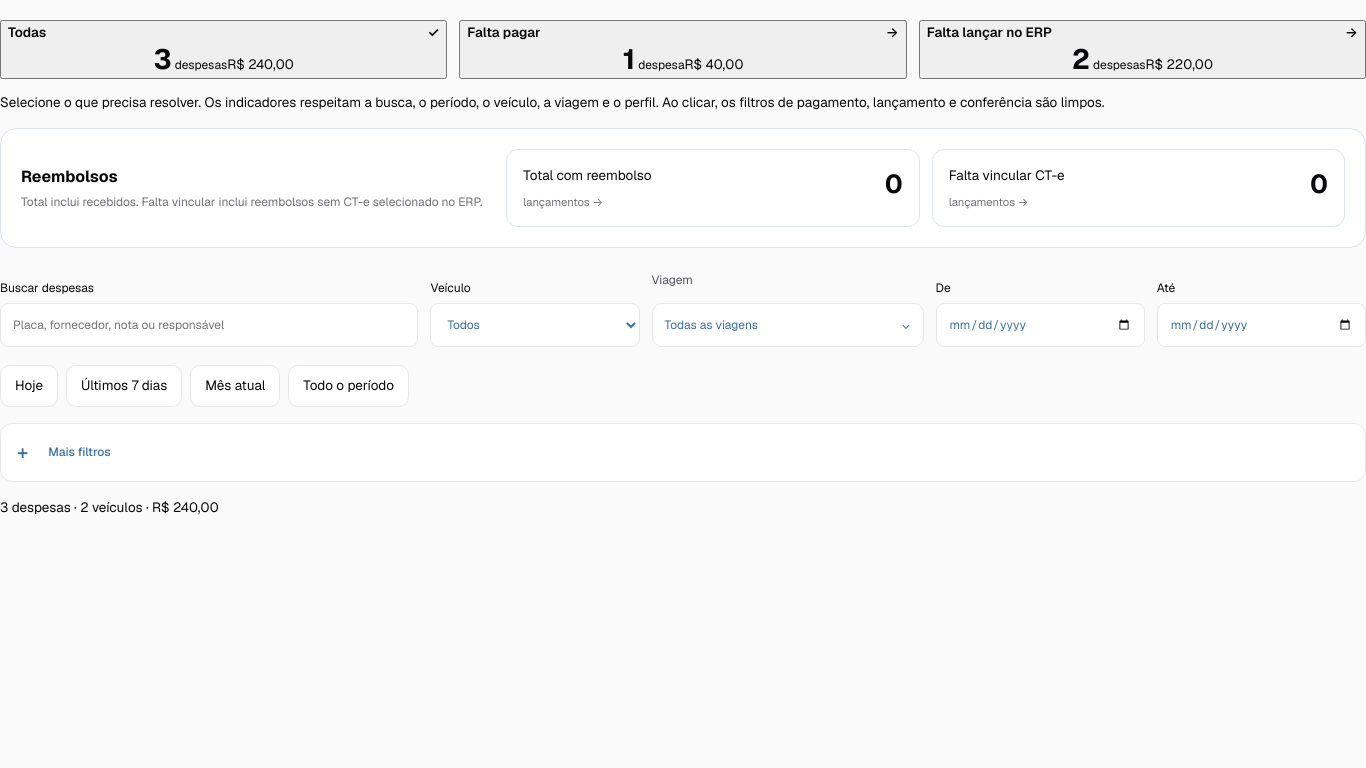
Scenario: limpa opcoes adicionais preservando busca e periodo e explica pagamento
Type "ABC" into the search field labelled "Buscar despesas". click: (209, 326)
box: left=0, top=304, right=418, bottom=348
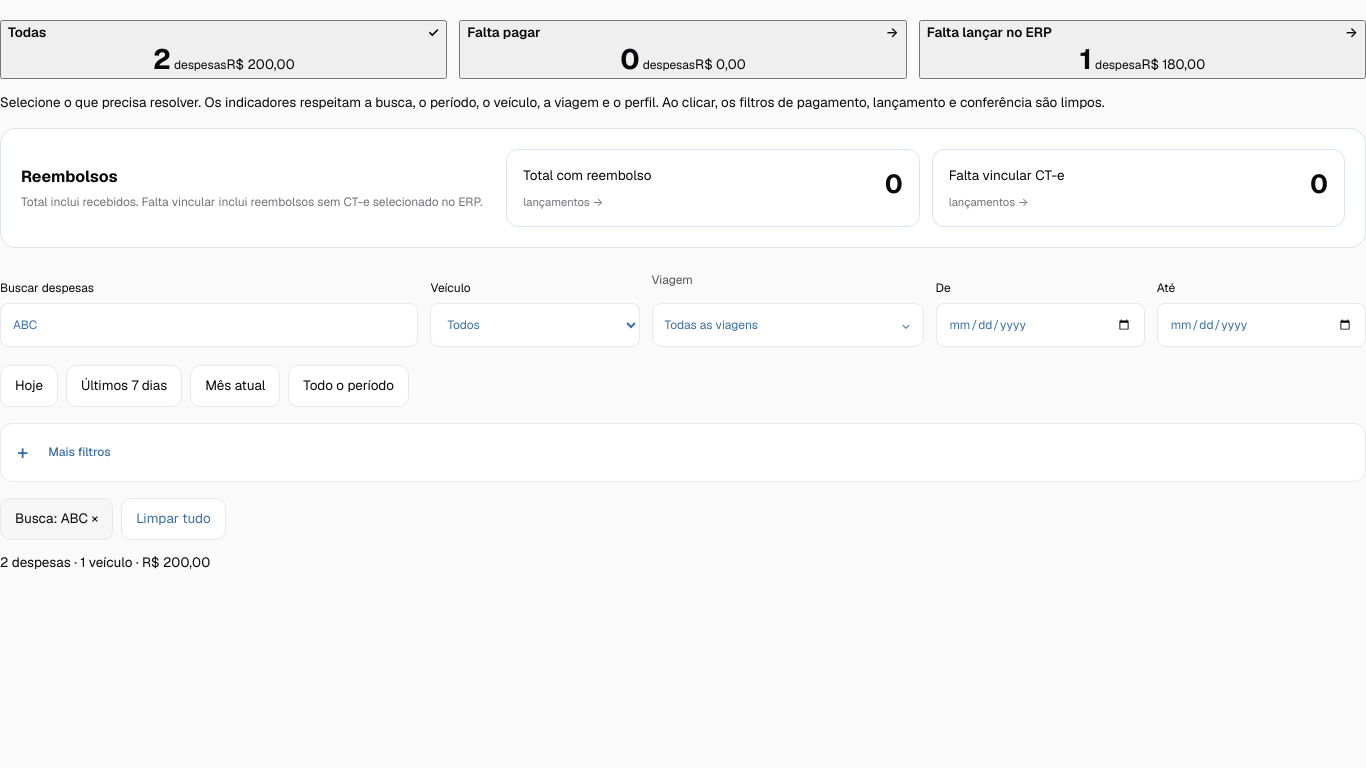
Click the button "Hoje". click: (29, 386)
box: left=0, top=366, right=58, bottom=407
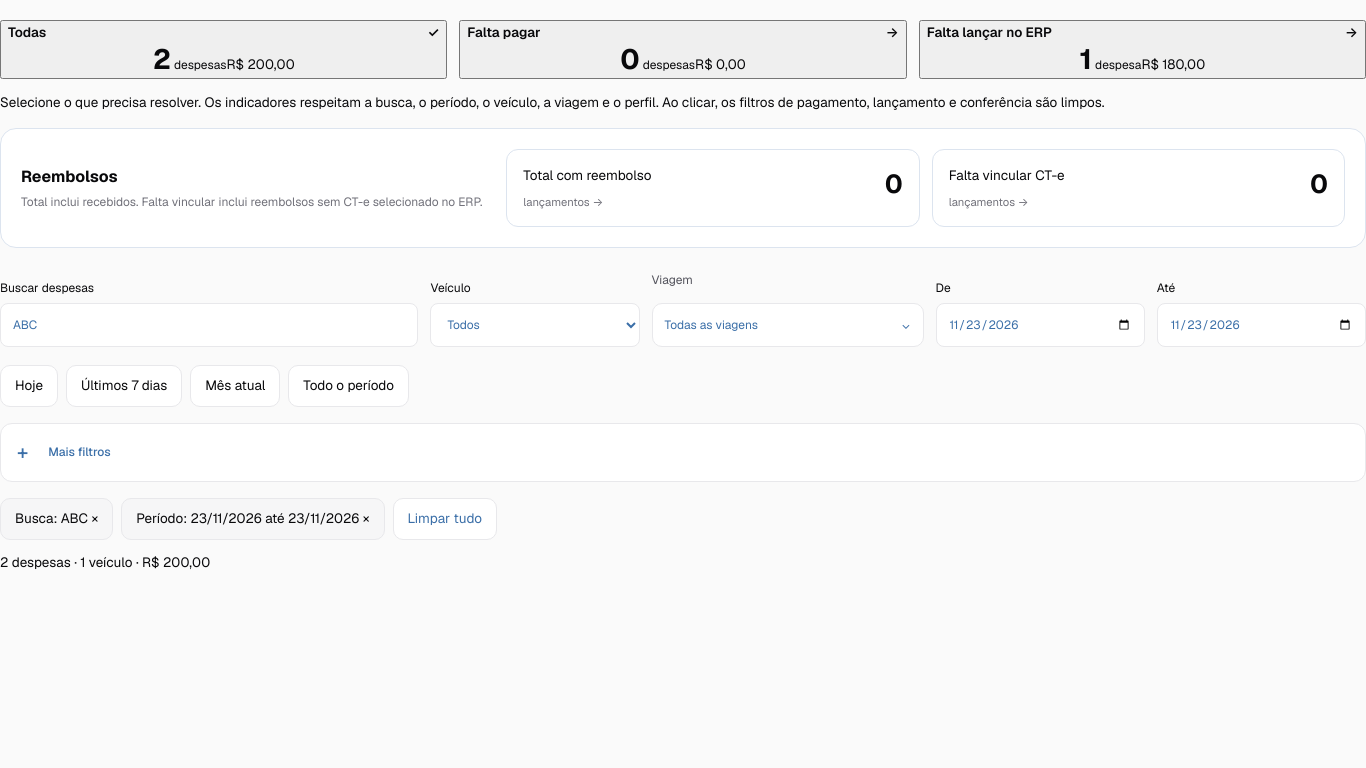
Click the heading "Mais filtros". click: (80, 452)
box: left=48, top=444, right=111, bottom=460
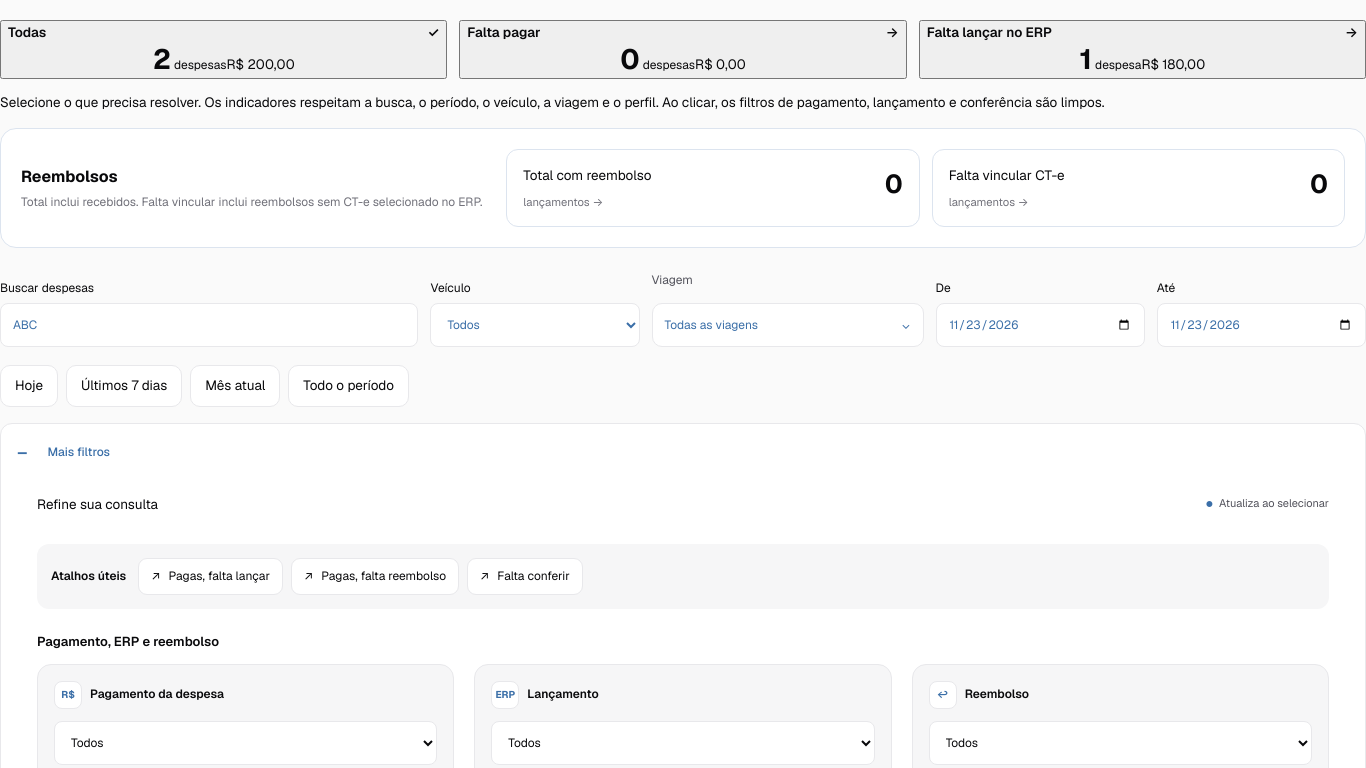
Select "Aguardando pagamento" in the dropdown labelled "Pagamento da despesa". click: (246, 743)
box: left=54, top=721, right=437, bottom=765
(page scrolled)
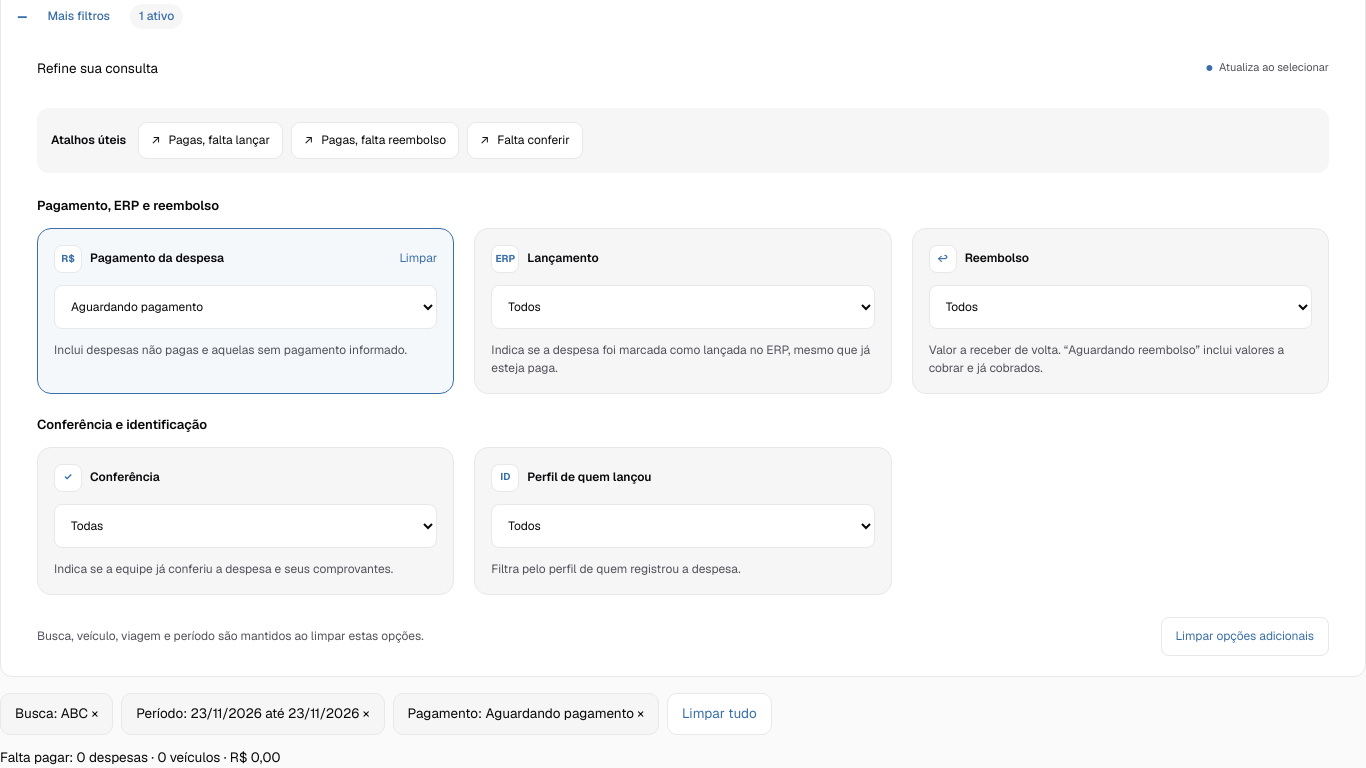
Select "Conferidas" in the dropdown labelled "Conferência". click: (246, 526)
box: left=54, top=504, right=437, bottom=548
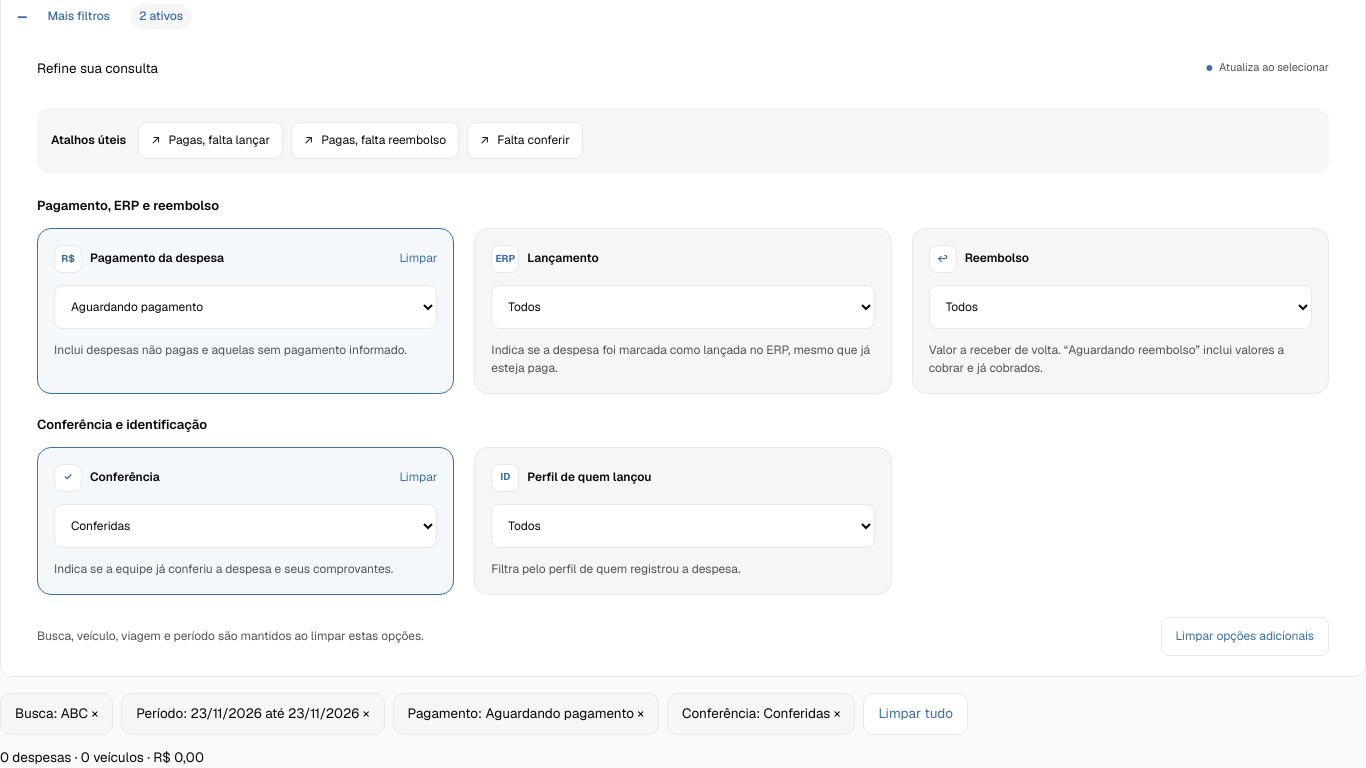
expect the text "2 ativos" is shown: met, box left=130, top=4, right=192, bottom=29
Click the button "Limpar opções adicionais". click: (1245, 636)
box: left=1161, top=617, right=1329, bottom=656
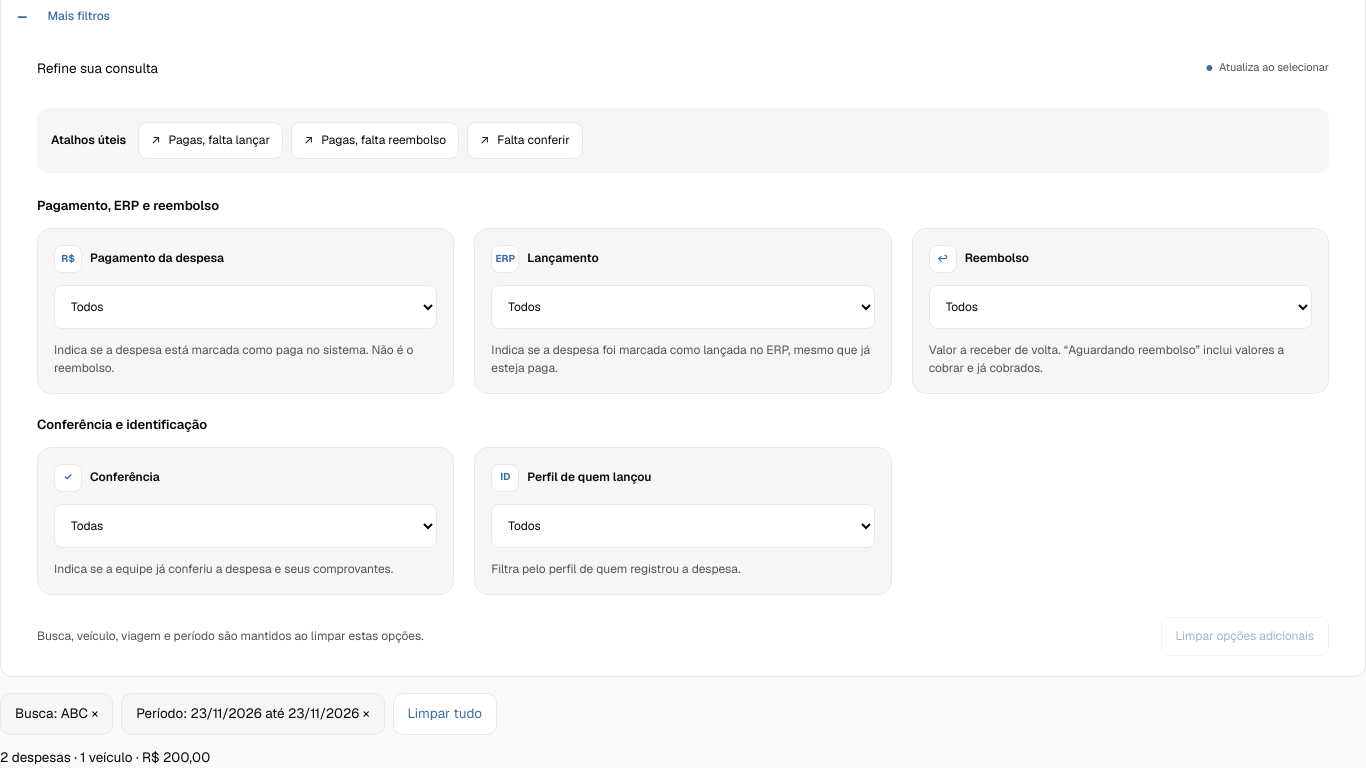
expect the button "Limpar opções adicionais" is disabled: met, box left=1161, top=617, right=1329, bottom=656
